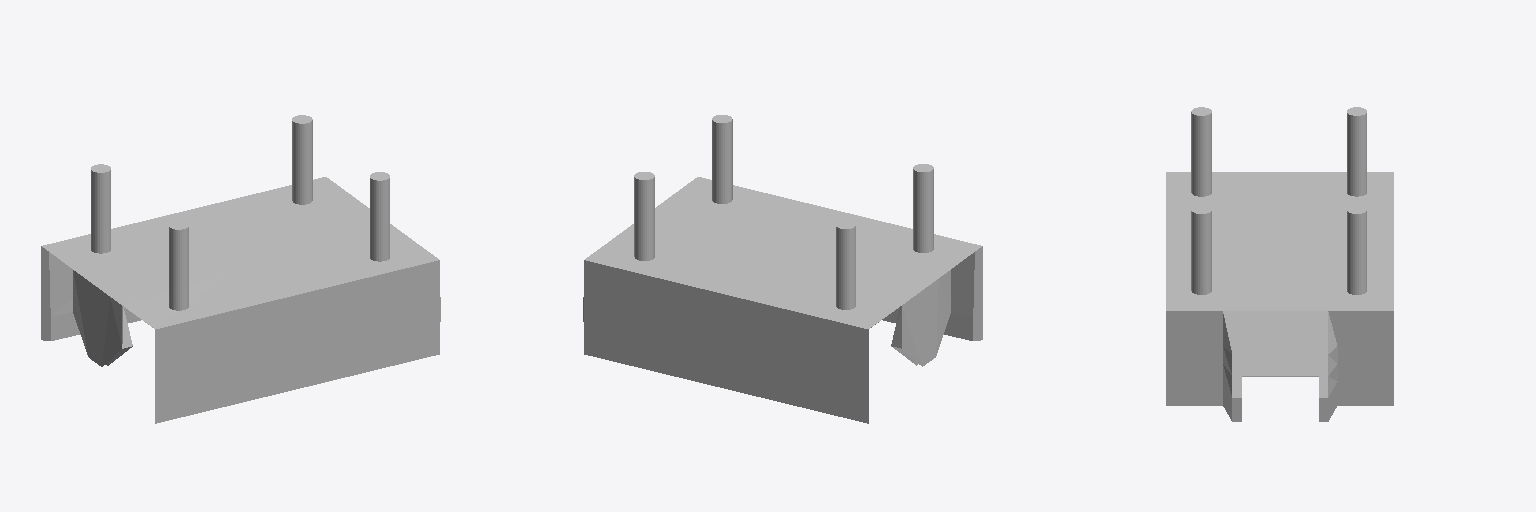
The model's file is chassis.obj.
3 renders of one model, left to right at view 1: azimuth 30°, elevation 25°; view 2: azimuth 150°, elevation 25°; view 3: azimuth 270°, elevation 25°, orthographic.
Parts seen in each view (by area): view 1: Cube_Cube.002, Cylinder, Cylinder.002_Cylinder.003, Cylinder.003_Cylinder.004, Cylinder.001_Cylinder.002; view 2: Cube_Cube.002, Cylinder, Cylinder.003_Cylinder.004, Cylinder.002_Cylinder.003, Cylinder.001_Cylinder.002; view 3: Cube_Cube.002, Cylinder.003_Cylinder.004, Cylinder.002_Cylinder.003, Cylinder, Cylinder.001_Cylinder.002.
Boxes of the visible parts, box(x1,y1,x2,y2) form: Cube_Cube.002: box(41, 177, 440, 423); Cylinder: box(292, 115, 312, 204); Cylinder.002_Cylinder.003: box(370, 172, 389, 261); Cylinder.003_Cylinder.004: box(169, 221, 188, 310); Cylinder.001_Cylinder.002: box(91, 164, 110, 253); Cube_Cube.002: box(583, 177, 982, 423); Cylinder: box(634, 172, 654, 260); Cylinder.003_Cylinder.004: box(913, 164, 933, 252); Cylinder.002_Cylinder.003: box(712, 115, 732, 203); Cylinder.001_Cylinder.002: box(836, 221, 855, 309); Cube_Cube.002: box(1166, 172, 1393, 421); Cylinder.003_Cylinder.004: box(1191, 107, 1211, 196); Cylinder.002_Cylinder.003: box(1191, 205, 1211, 294); Cylinder: box(1347, 205, 1366, 294); Cylinder.001_Cylinder.002: box(1347, 107, 1366, 196).
Size of the model in its own units: 9.61 by 5 by 5.9.